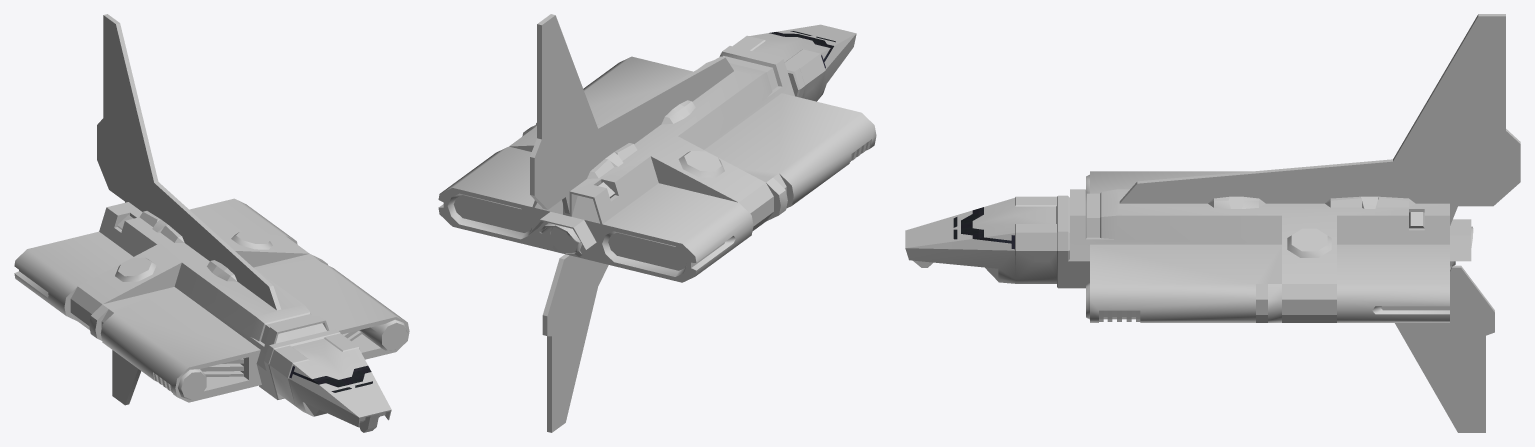
File: imperial_gunboat_l1.fbx
The picture shows the model from 3 angles, left to right: view 1: azimuth 30°, elevation 25°; view 2: azimuth 150°, elevation 25°; view 3: azimuth 270°, elevation 25°; orthographic projection. The views are drawn at different scales.
Parts seen in each view (by area): view 1: mesh_node; view 2: mesh_node; view 3: mesh_node.
Boxes of the visible parts, x1,y1,x2,y2 form: mesh_node: [14, 14, 409, 432]; mesh_node: [438, 14, 876, 432]; mesh_node: [905, 14, 1520, 432].
Bounding box in the file's own units: 44.97 × 68.7 × 91.96.
